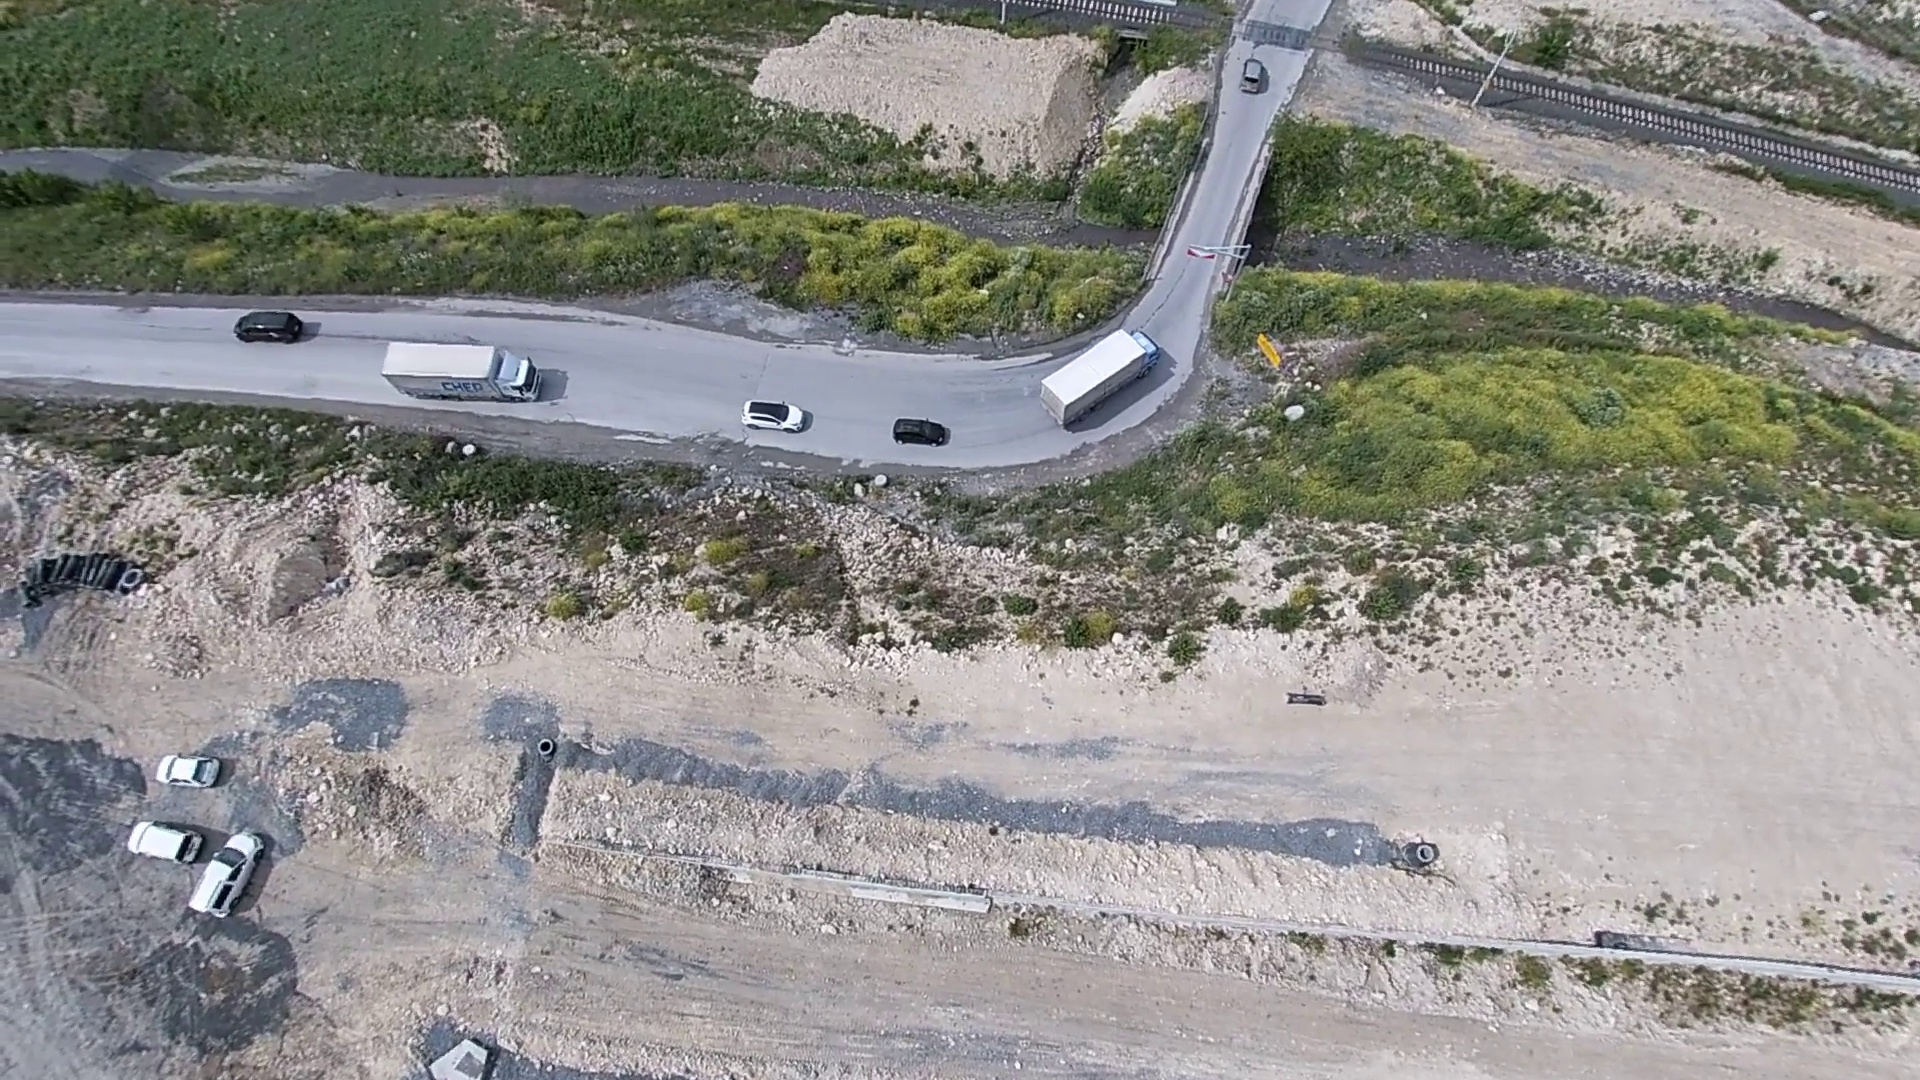araba: (179, 825, 280, 920), (123, 810, 207, 870), (229, 303, 310, 349), (153, 749, 231, 791), (740, 397, 816, 433), (891, 415, 955, 448), (1234, 49, 1271, 98)
kamyon: (1036, 319, 1171, 433), (377, 339, 555, 404)
